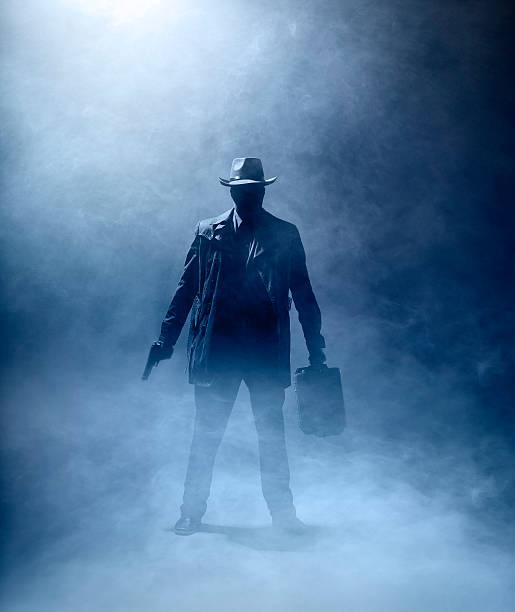weapon: (136, 338, 175, 383)
